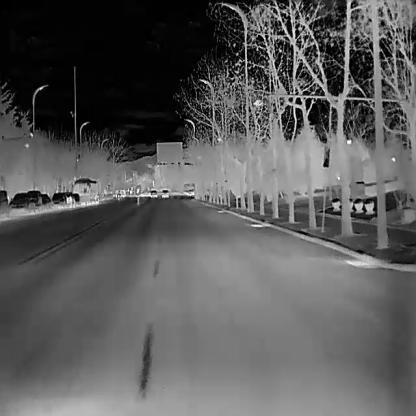car: (71, 176, 99, 203), (12, 190, 36, 212), (54, 190, 71, 210), (28, 189, 42, 210), (0, 188, 8, 217), (40, 193, 53, 210), (70, 192, 80, 206), (161, 189, 169, 198), (150, 190, 157, 198)
